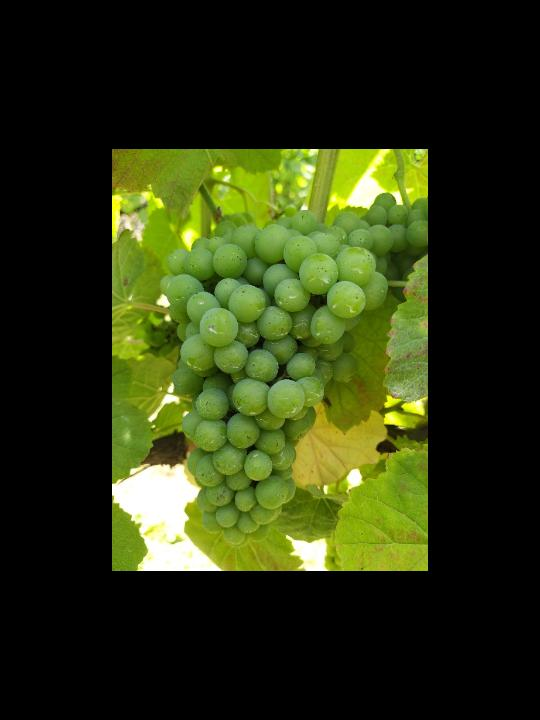grape: (156, 218, 390, 548)
